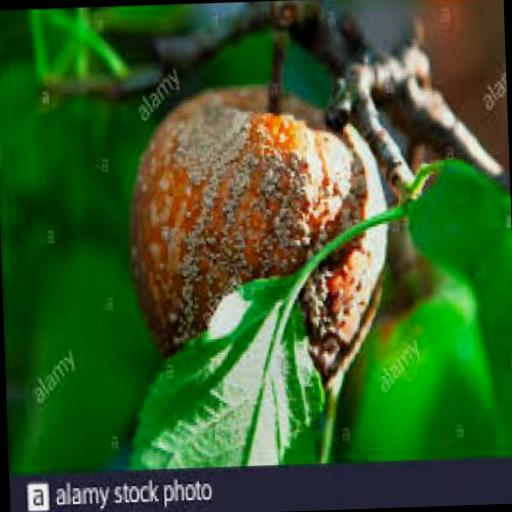biodegradable: (120, 74, 390, 404), (380, 124, 455, 302)
